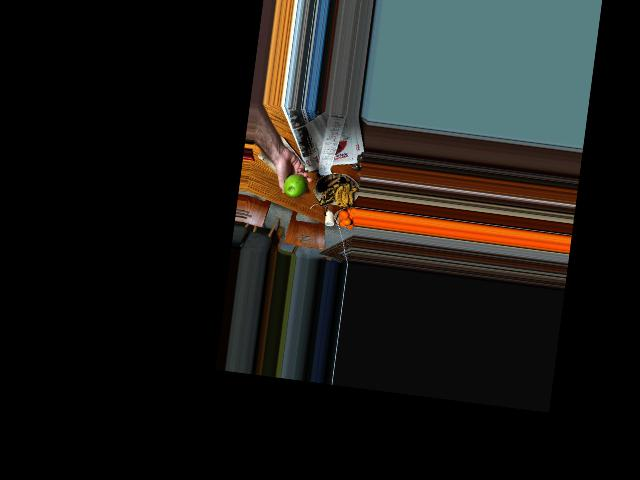apple: (282, 171, 308, 199)
